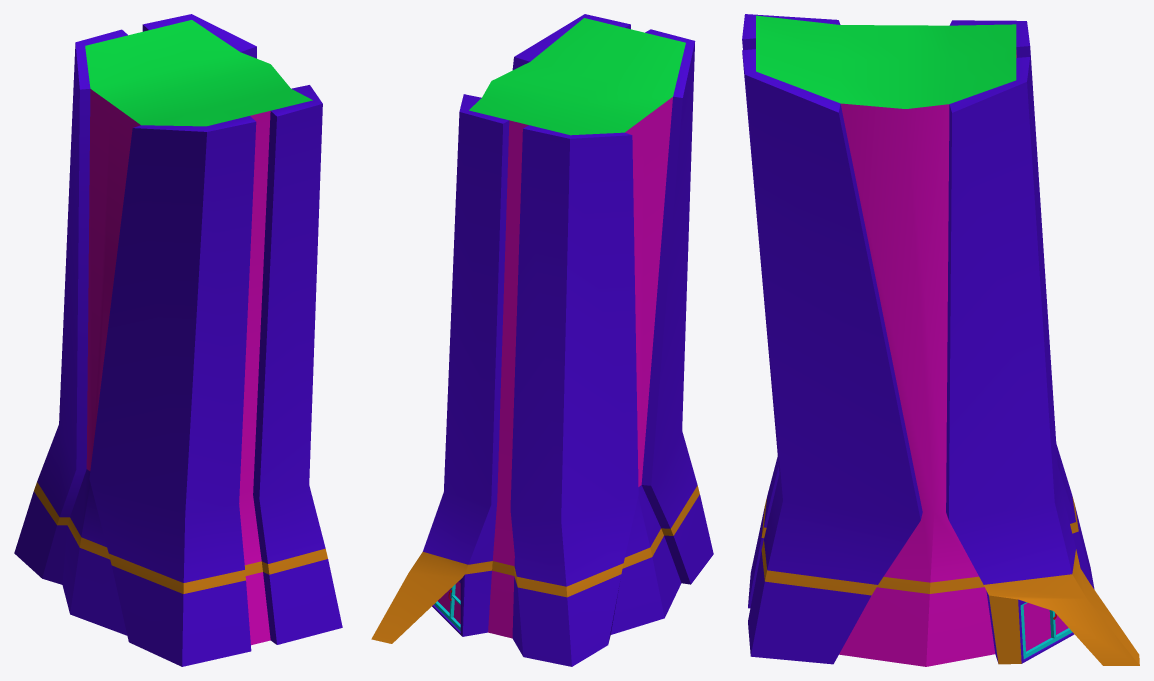
Rendered from Bat_Joliette_2.1.fbx.
The picture shows the model from 3 angles, left to right: view 1: azimuth 30°, elevation 25°; view 2: azimuth 150°, elevation 25°; view 3: azimuth 270°, elevation 25°; orthographic projection. The views are drawn at different scales.
Visible parts, largest first — view 1: Bat_Joliette_3.1; view 2: Bat_Joliette_3.1; view 3: Bat_Joliette_3.1.
Boxes of the visible parts, left/top/right/bottom form: Bat_Joliette_3.1: left=14, top=14, right=342, bottom=666; Bat_Joliette_3.1: left=371, top=14, right=713, bottom=666; Bat_Joliette_3.1: left=742, top=14, right=1139, bottom=666.
Size of the model in its own units: 1568 by 3793 by 2392.
